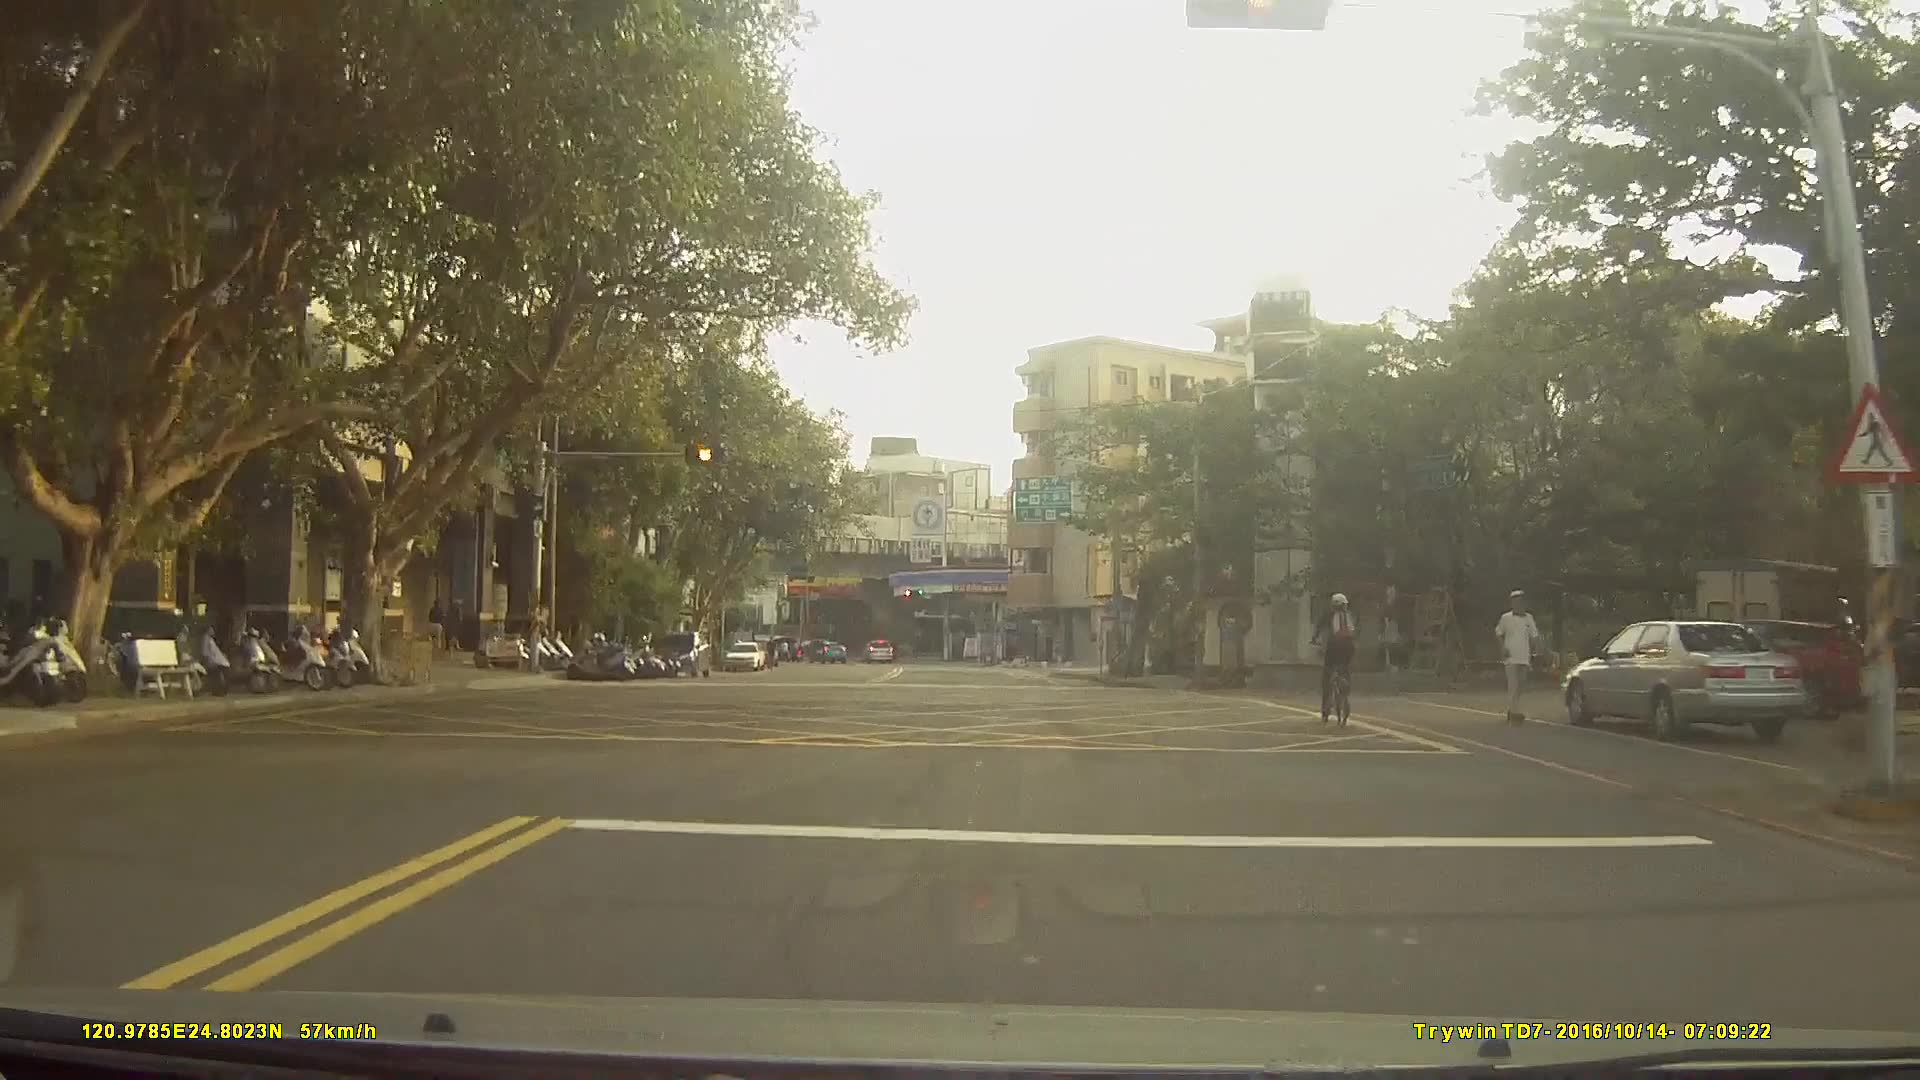pedestrian: (1486, 583, 1551, 731), (424, 598, 450, 656)
rider: (1309, 592, 1364, 727)
vehicle: (1562, 617, 1808, 742), (652, 627, 712, 677), (725, 639, 765, 671), (808, 639, 848, 663), (860, 637, 895, 663)
